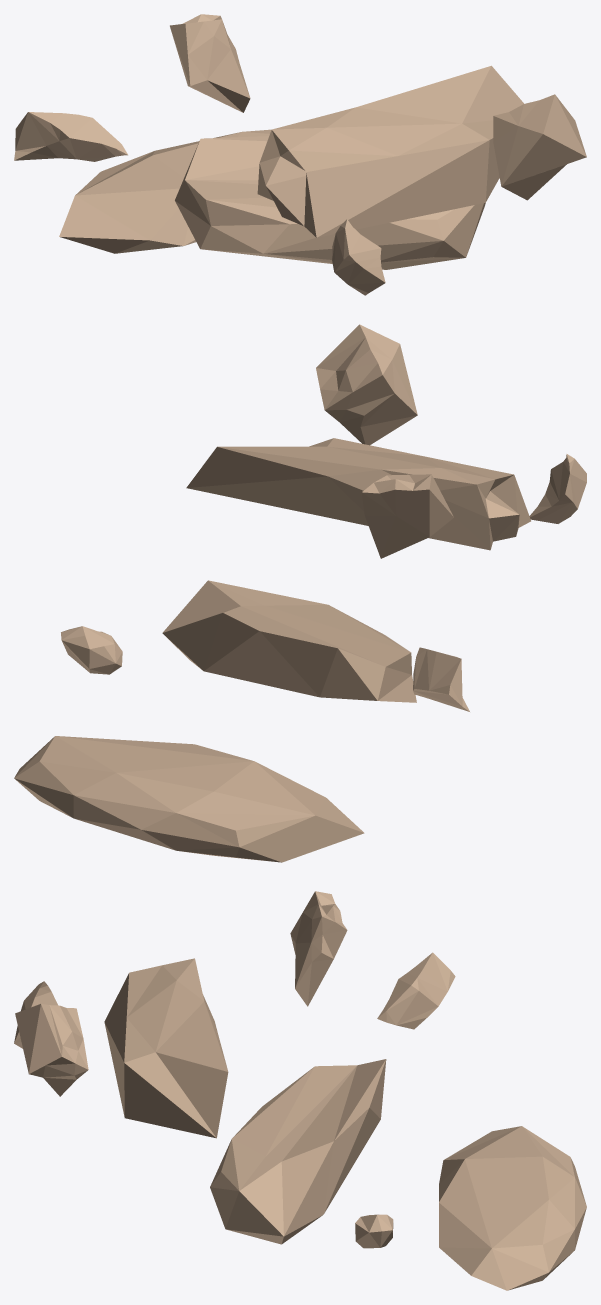
File: SpaceStairs.fbx
3 renders of one model, top to bottom at view 1: azimuth 30°, elevation 25°; view 2: azimuth 150°, elevation 25°; view 3: azimuth 270°, elevation 25°, orthographic. The views are drawn at different scales.
Parts seen in each view (by area): view 1: spaceStairs; view 2: spaceStairs; view 3: spaceStairs.
Part boxes in pixels (x1,y1,x2,y2): spaceStairs: (14,14,586,295); spaceStairs: (14,324,586,862); spaceStairs: (14,891,586,1290).
Size of the model in its own units: 7.4 by 5.01 by 9.21.
